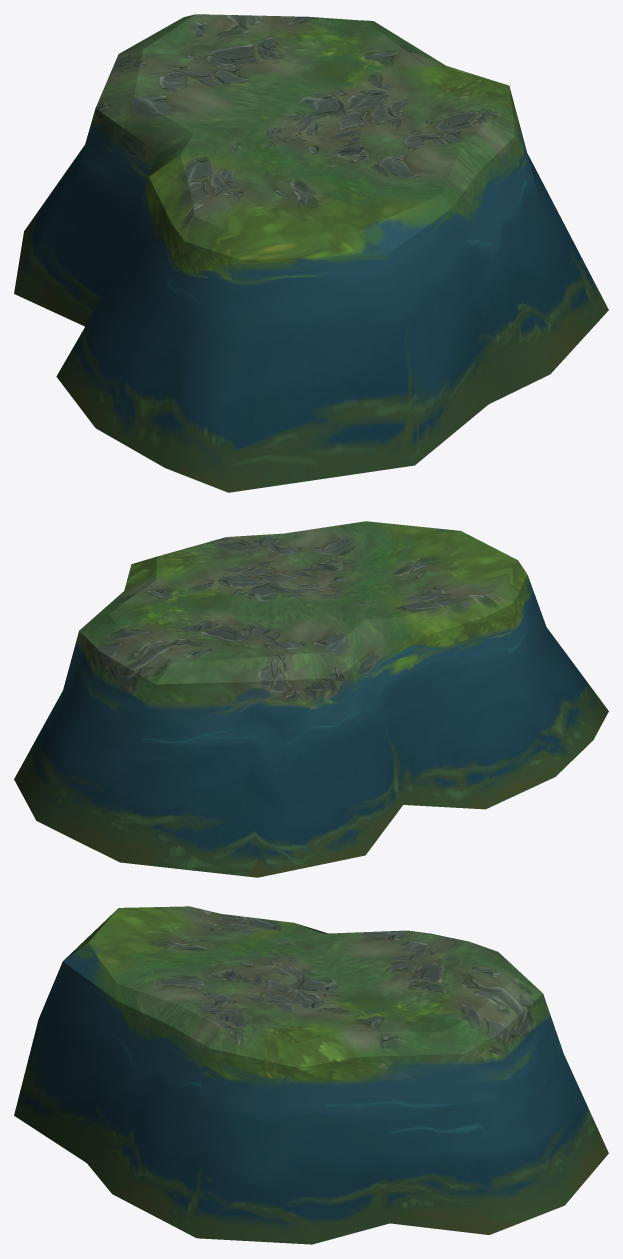
File: shrineplatform.fbx
The picture shows the model from 3 angles, top to bottom: view 1: azimuth 30°, elevation 25°; view 2: azimuth 150°, elevation 25°; view 3: azimuth 270°, elevation 25°; orthographic projection. The views are drawn at different scales.
Visible parts, largest first — view 1: pCylinder1; view 2: pCylinder1; view 3: pCylinder1.
Part boxes in pixels (box(x1,y1,x2,y2)): pCylinder1: box(14, 14, 608, 492); pCylinder1: box(14, 521, 608, 877); pCylinder1: box(14, 906, 608, 1244).
Size of the model in its own units: 19.17 by 7.48 by 22.96.
